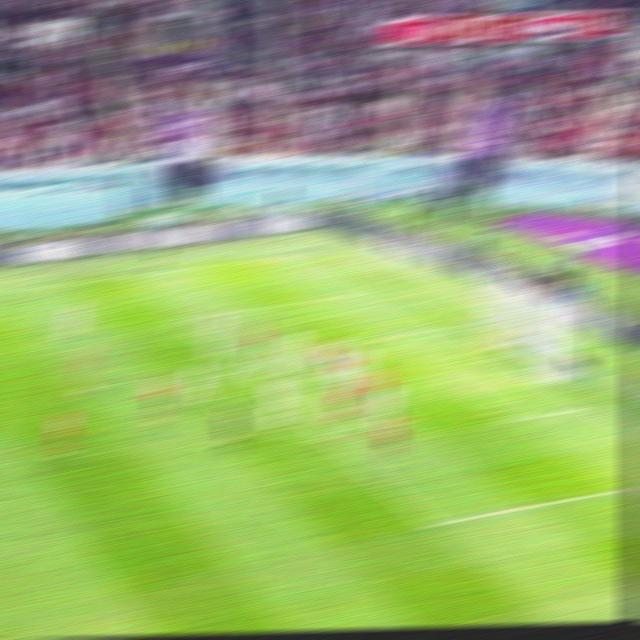bigarea_bottom_inner: (417, 510, 450, 537)
bigarea_top_inner: (170, 307, 199, 328)
bigarea_top_outter: (367, 279, 393, 297)
bottom_arc_area_intersection: (314, 426, 344, 447)
corner: (300, 247, 327, 258)
smallarea_bottom_inner: (498, 406, 529, 432)
smallarea_bottom_outter: (579, 395, 608, 416)
smallarea_top_inner: (367, 325, 398, 348)
smallarea_top_outter: (433, 317, 461, 334)
top_arc_area_intersection: (231, 356, 257, 376)
